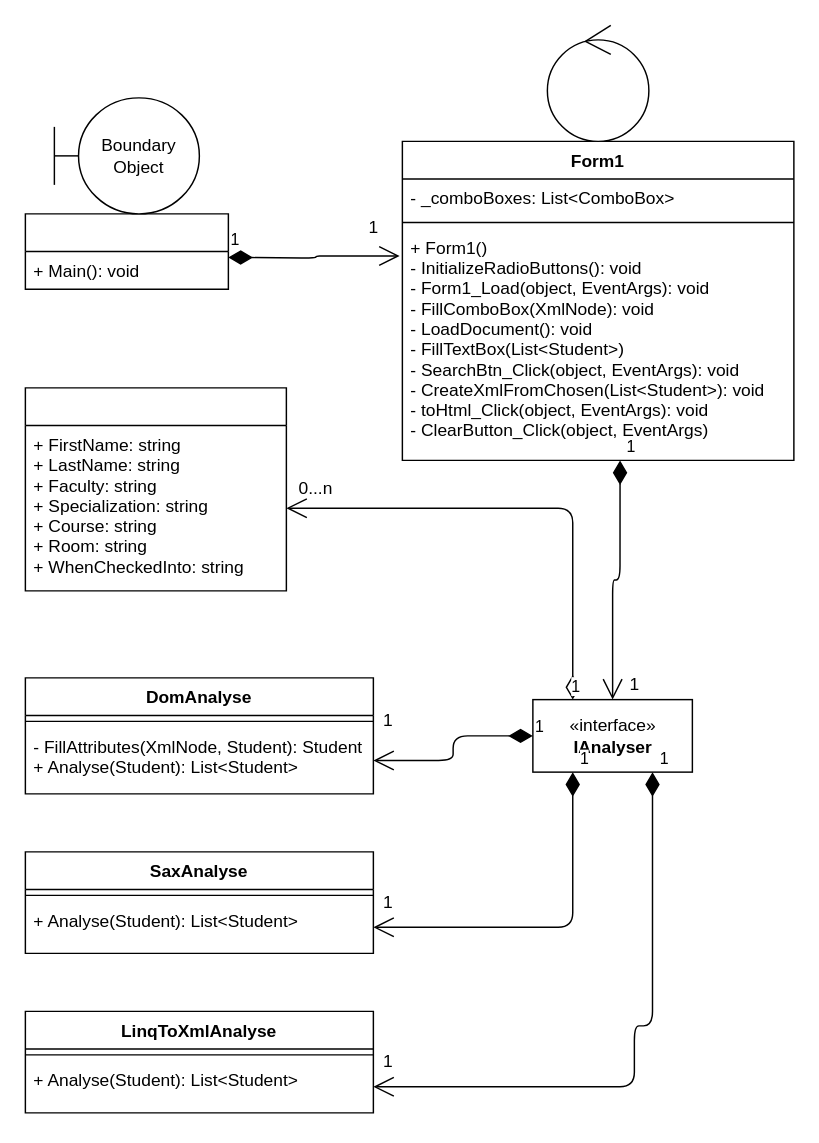
This 819x1143 diagram has some shape labels left out. Here are the shapes that lost their labels. From the top down, the box of each, then its label:
(546, 24, 649, 141): Control Object
(24, 212, 228, 289): Program
(24, 386, 286, 591): Student
